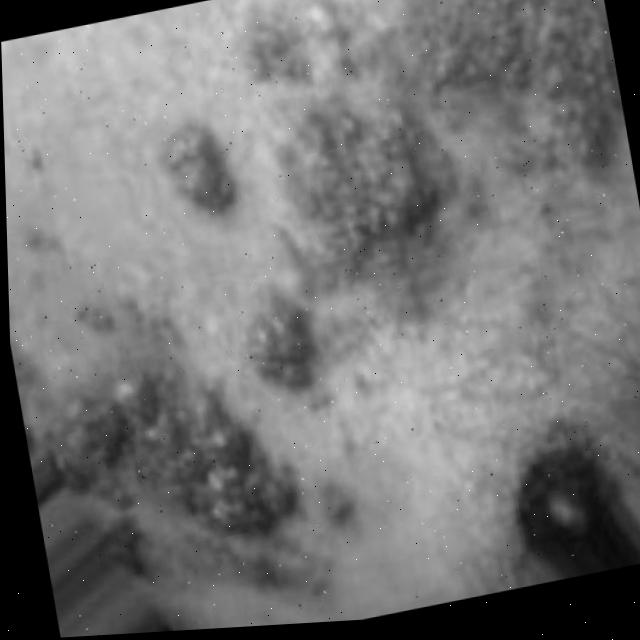Shingles: (183, 0, 640, 384), (23, 303, 269, 606), (158, 125, 208, 203)
